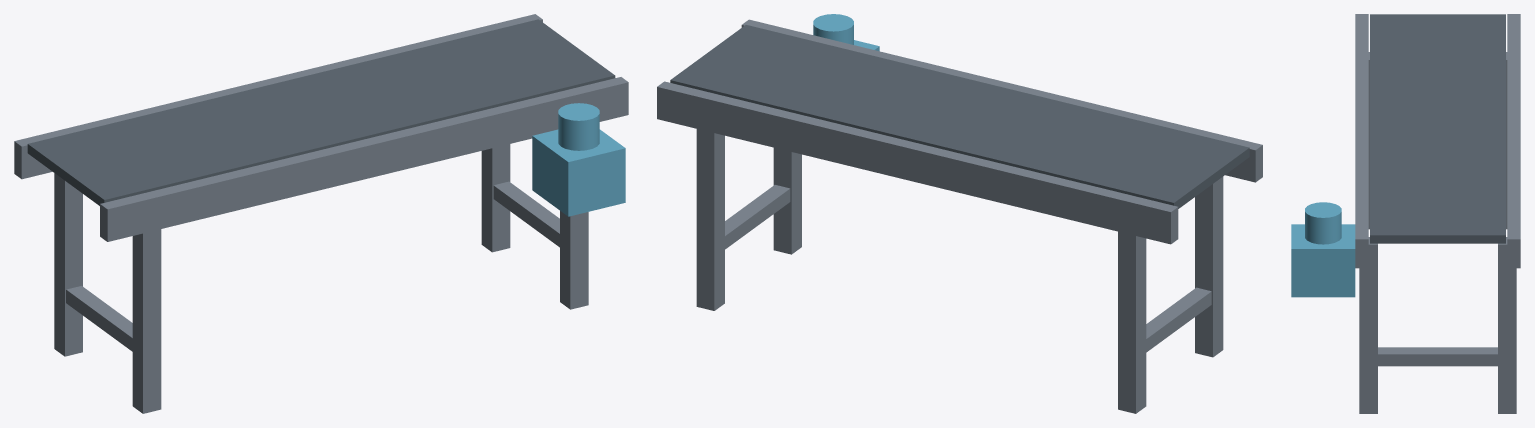
File: belt-conveyor-2m.glb
3 views of the same model, side by side, from view 1: azimuth 30°, elevation 25°; view 2: azimuth 150°, elevation 25°; view 3: azimuth 270°, elevation 25° (orthographic). The views are drawn at different scales.
Parts seen in each view (by area): view 1: Frame_Chassis, Belt_Surface, Drive_Motor_Unit; view 2: Frame_Chassis, Belt_Surface, Drive_Motor_Unit; view 3: Belt_Surface, Frame_Chassis, Drive_Motor_Unit.
Part boxes in pixels (<box>): Frame_Chassis: <box>14,14,628,413</box>; Belt_Surface: <box>27,19,615,205</box>; Drive_Motor_Unit: <box>532,103,625,216</box>; Frame_Chassis: <box>657,19,1262,413</box>; Belt_Surface: <box>670,25,1249,208</box>; Drive_Motor_Unit: <box>813,14,879,51</box>; Belt_Surface: <box>1370,14,1505,243</box>; Frame_Chassis: <box>1355,14,1520,413</box>; Drive_Motor_Unit: <box>1291,202,1355,297</box>.
Bounding box in the file's own units: 2 × 0.7975 × 0.86.
